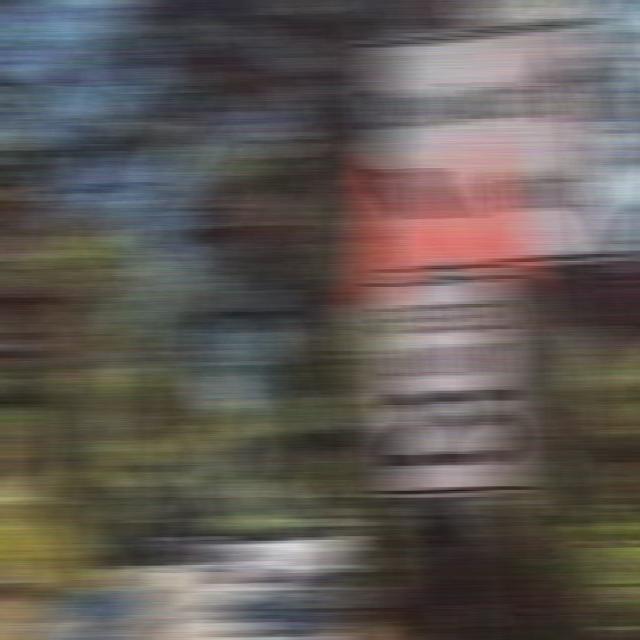speedLimit25: (373, 282, 515, 490)
